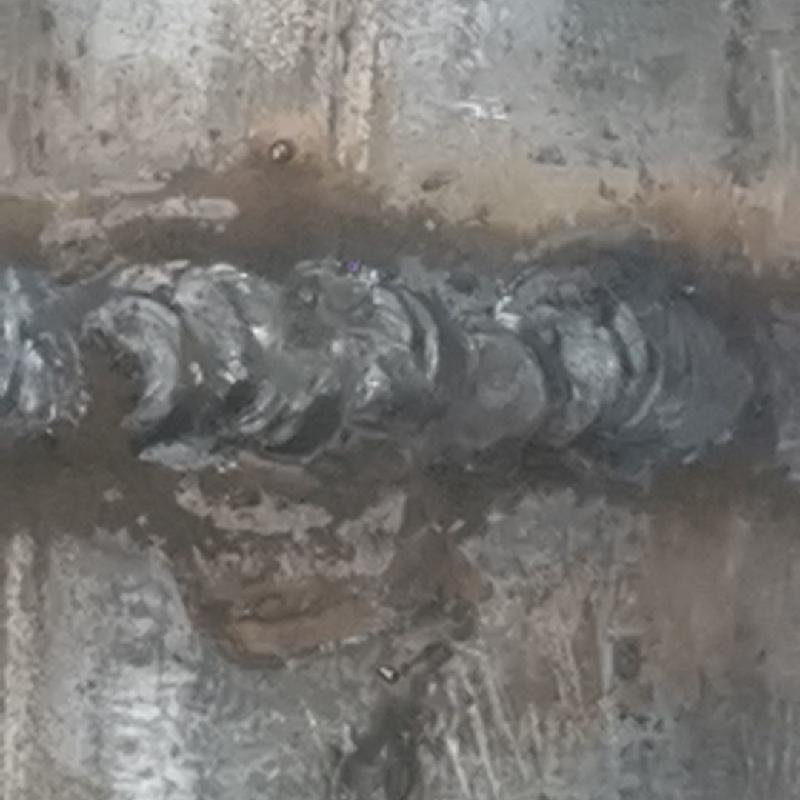good: (2, 250, 799, 475)
